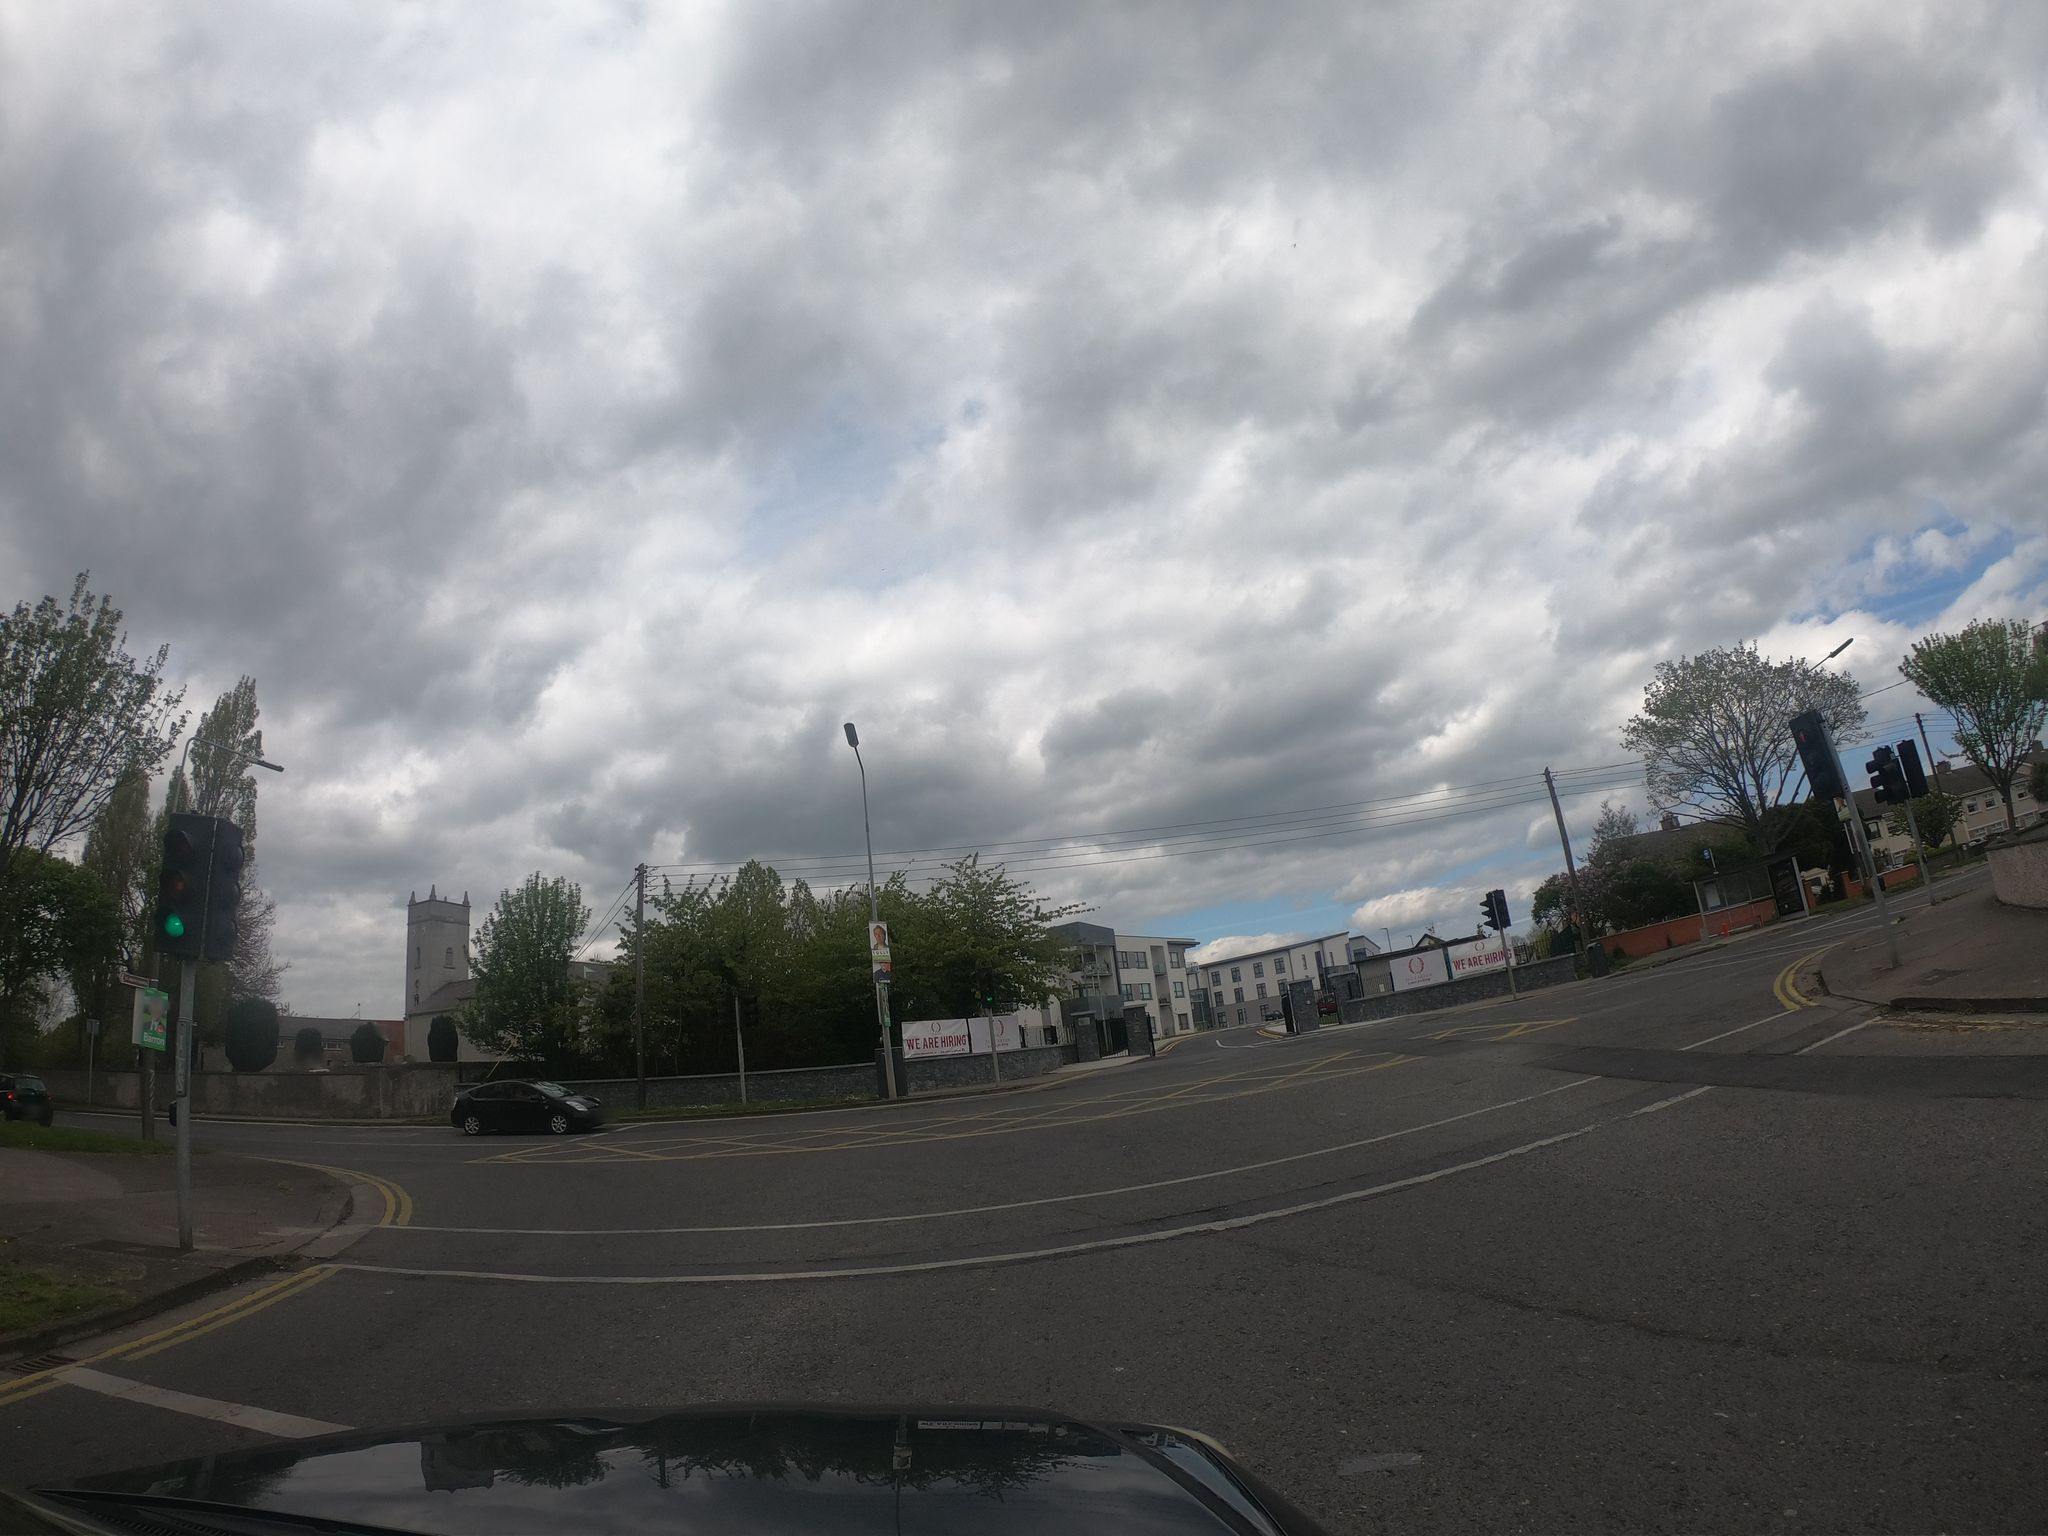vinyl banner: (1434, 929, 1529, 995), (893, 1007, 984, 1071)
